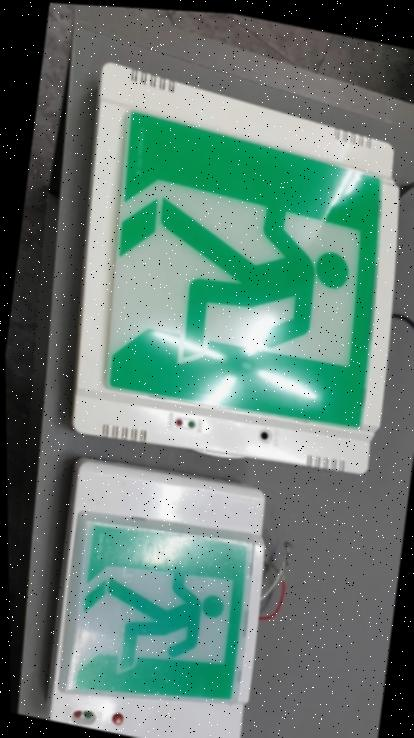emergency_exit: (71, 62, 400, 475), (47, 457, 268, 736)
